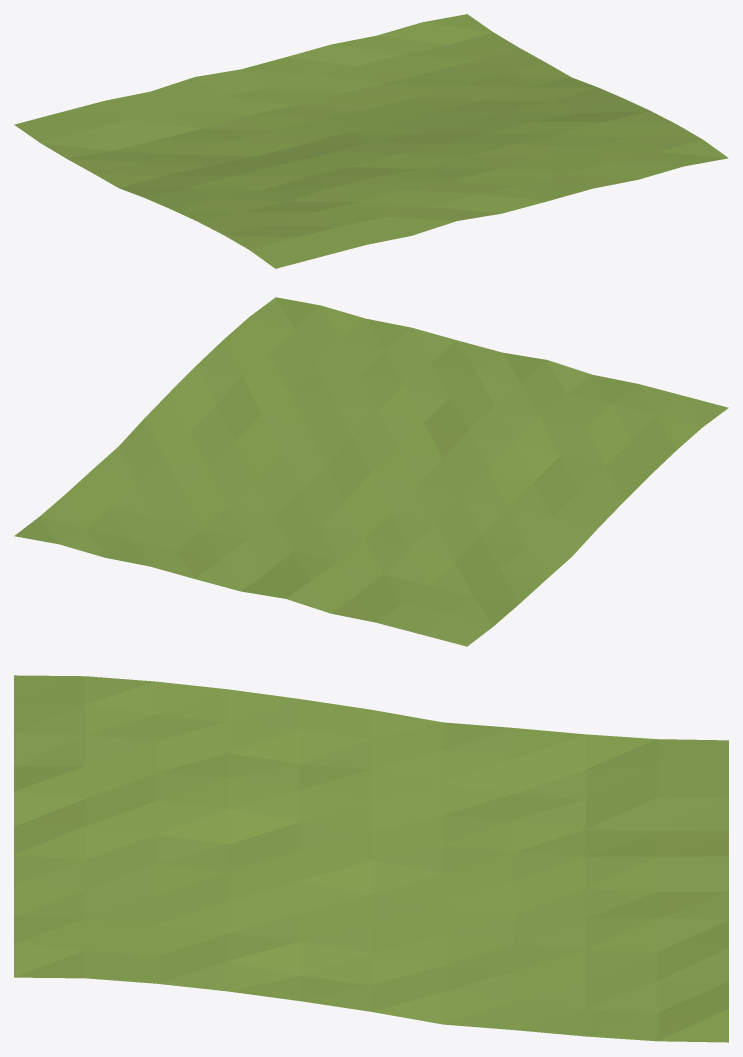
File: terrain-plane_04-4.fbx
3 renders of one model, top to bottom at view 1: azimuth 30°, elevation 25°; view 2: azimuth 150°, elevation 25°; view 3: azimuth 270°, elevation 25°, orthographic. The views are drawn at different scales.
Parts seen in each view (by area): view 1: terrain-plane_04-4; view 2: terrain-plane_04-4; view 3: terrain-plane_04-4.
Part boxes in pixels (x1,y1,x2,y2): terrain-plane_04-4: [14, 14, 728, 268]; terrain-plane_04-4: [14, 297, 728, 646]; terrain-plane_04-4: [14, 675, 728, 1042].
Size of the model in its own units: 2001 by 217 by 2000.
